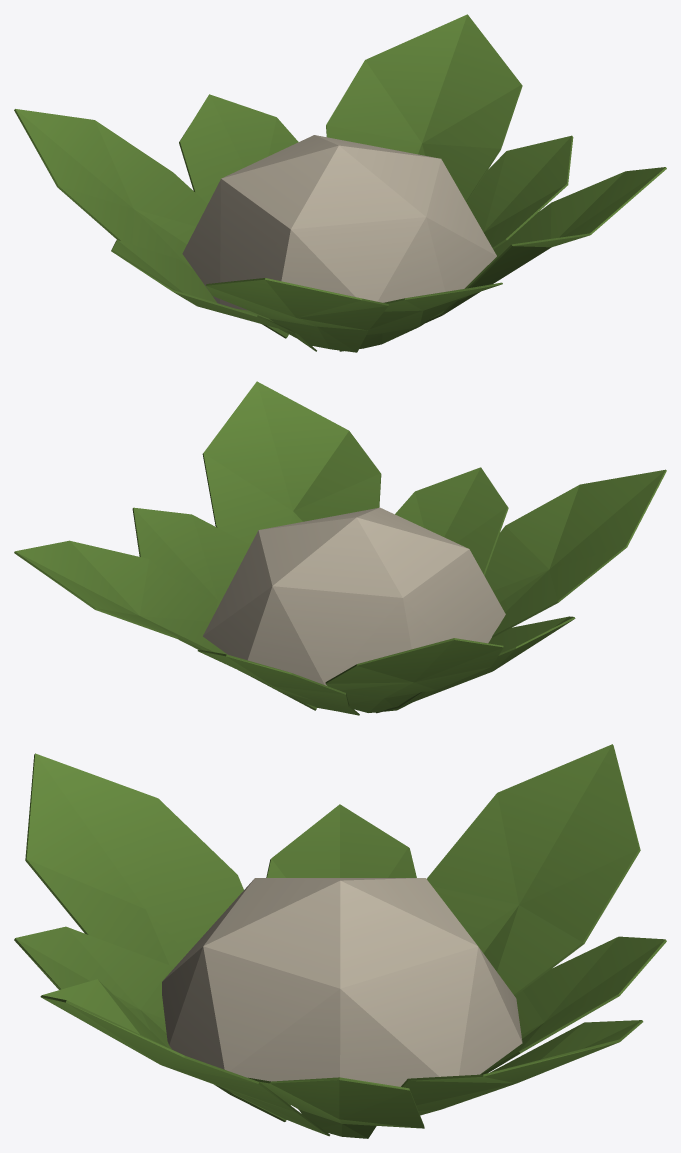
File: Crop_Cauliflower_STAGE_3_01.obj
3 renders of one model, top to bottom at view 1: azimuth 30°, elevation 25°; view 2: azimuth 150°, elevation 25°; view 3: azimuth 270°, elevation 25°, orthographic. The views are drawn at different scales.
Visible parts, largest first — view 1: Crop_Cauliflower_STAGE_3_01; view 2: Crop_Cauliflower_STAGE_3_01; view 3: Crop_Cauliflower_STAGE_3_01.
Boxes of the visible parts, x1,y1,x2,y2 form: Crop_Cauliflower_STAGE_3_01: (14,14,666,352); Crop_Cauliflower_STAGE_3_01: (14,381,666,715); Crop_Cauliflower_STAGE_3_01: (14,744,666,1138).
Bounding box in the file's own units: 0.4672 × 0.19 × 0.4572.
Materials: 1 (1 with a texture image).
